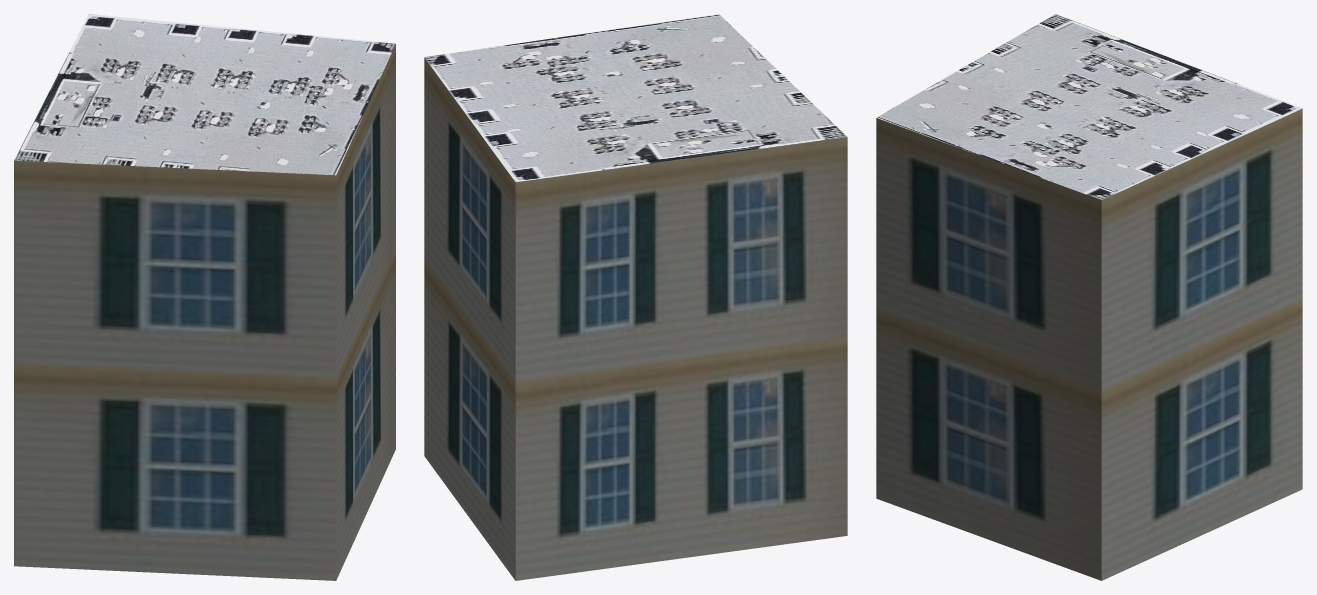
Rendered from ResTex__274.fbx.
3 views of the same model, side by side, from view 1: azimuth 30°, elevation 25°; view 2: azimuth 150°, elevation 25°; view 3: azimuth 270°, elevation 25° (orthographic). The views are drawn at different scales.
Visible parts, largest first — view 1: CityEngineMaterial_7_m, CityEngineMaterial_8_m; view 2: CityEngineMaterial_7_m, CityEngineMaterial_8_m; view 3: CityEngineMaterial_7_m, CityEngineMaterial_8_m.
Boxes of the visible parts, x1,y1,x2,y2 form: CityEngineMaterial_7_m: (14, 44, 395, 580); CityEngineMaterial_8_m: (14, 14, 395, 175); CityEngineMaterial_7_m: (424, 58, 847, 580); CityEngineMaterial_8_m: (424, 14, 846, 182); CityEngineMaterial_7_m: (876, 108, 1302, 580); CityEngineMaterial_8_m: (876, 14, 1302, 199).
Bounding box in the file's own units: 6.29 × 6 × 6.09.
2 materials, 2 textured.
